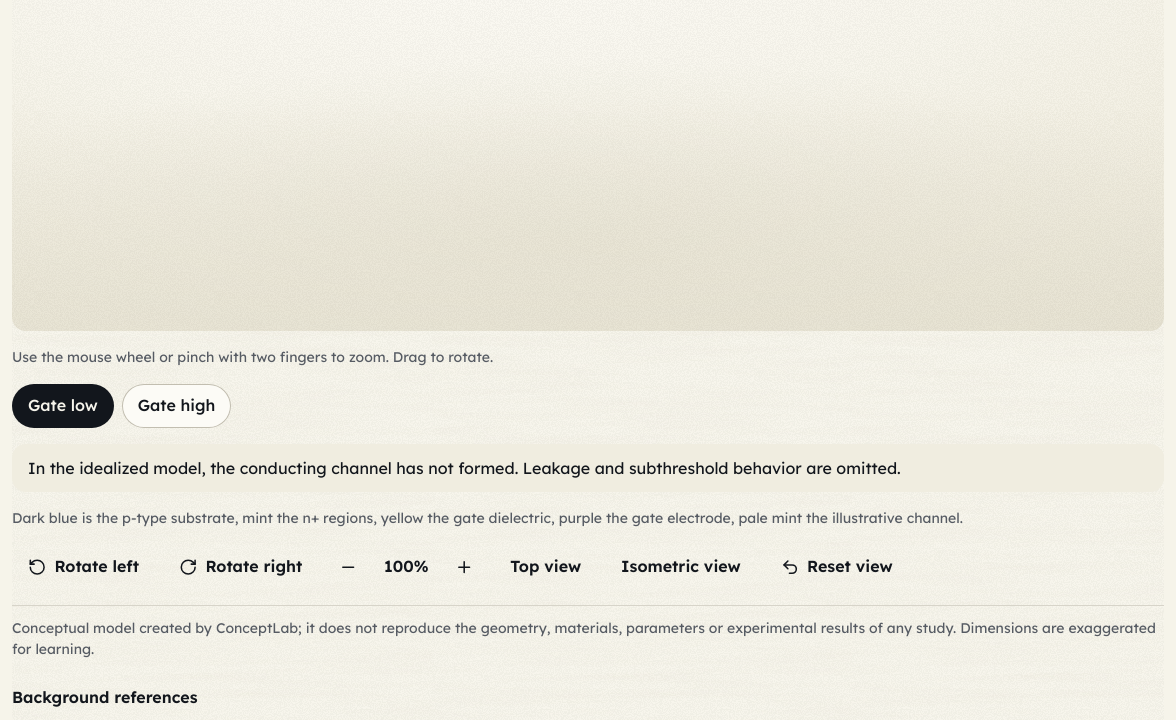
updates the 3D model, rotates and switches to fallback on WebGL loss
(page scrolled)
Expected: the button "Rotate right" is shown, [163, 545, 318, 589]
Click the button "Gate high": coordinates (176, 406) [122, 384, 231, 428]
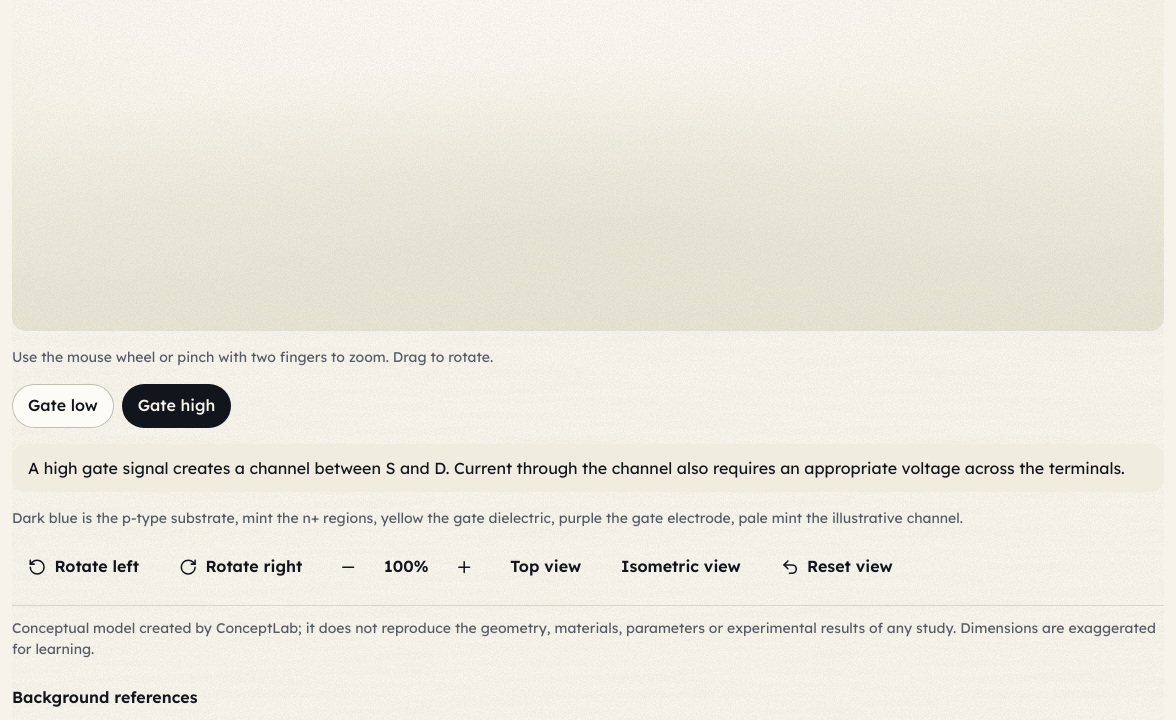
Click the button "Rotate right": coordinates (241, 567) [163, 545, 318, 589]
(page scrolled)
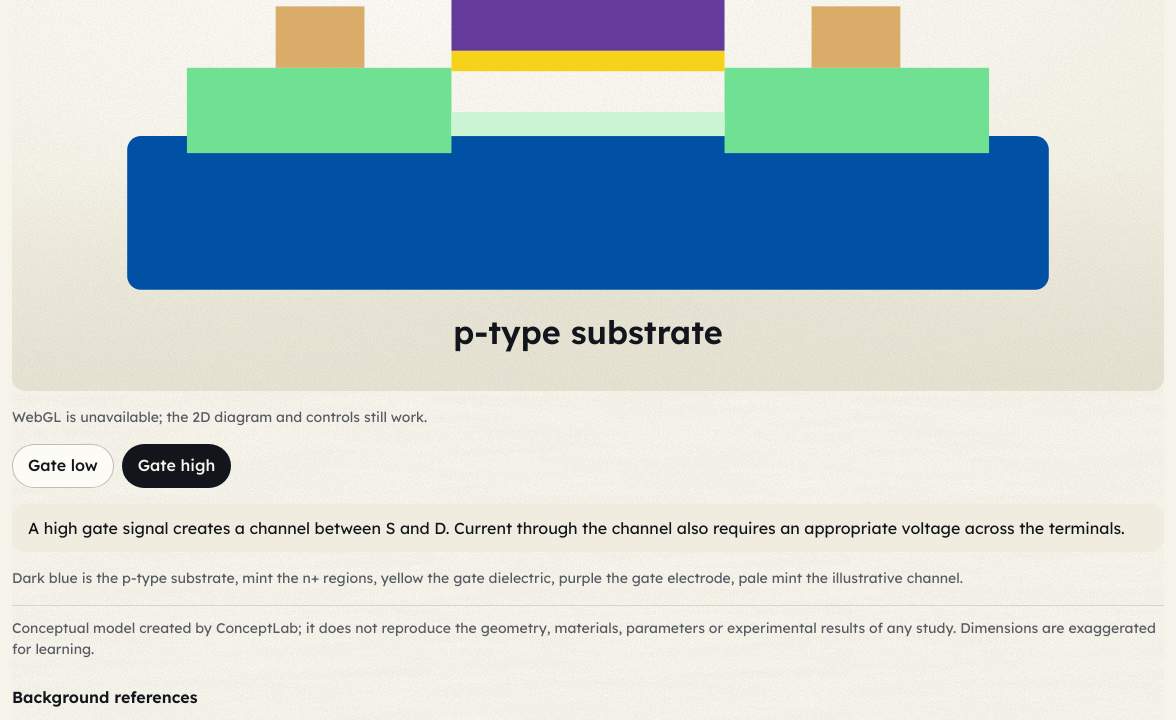
Expected: the text "WebGL is unavailable; the 2D diagram and controls still work." is shown, [12, 408, 427, 426]
